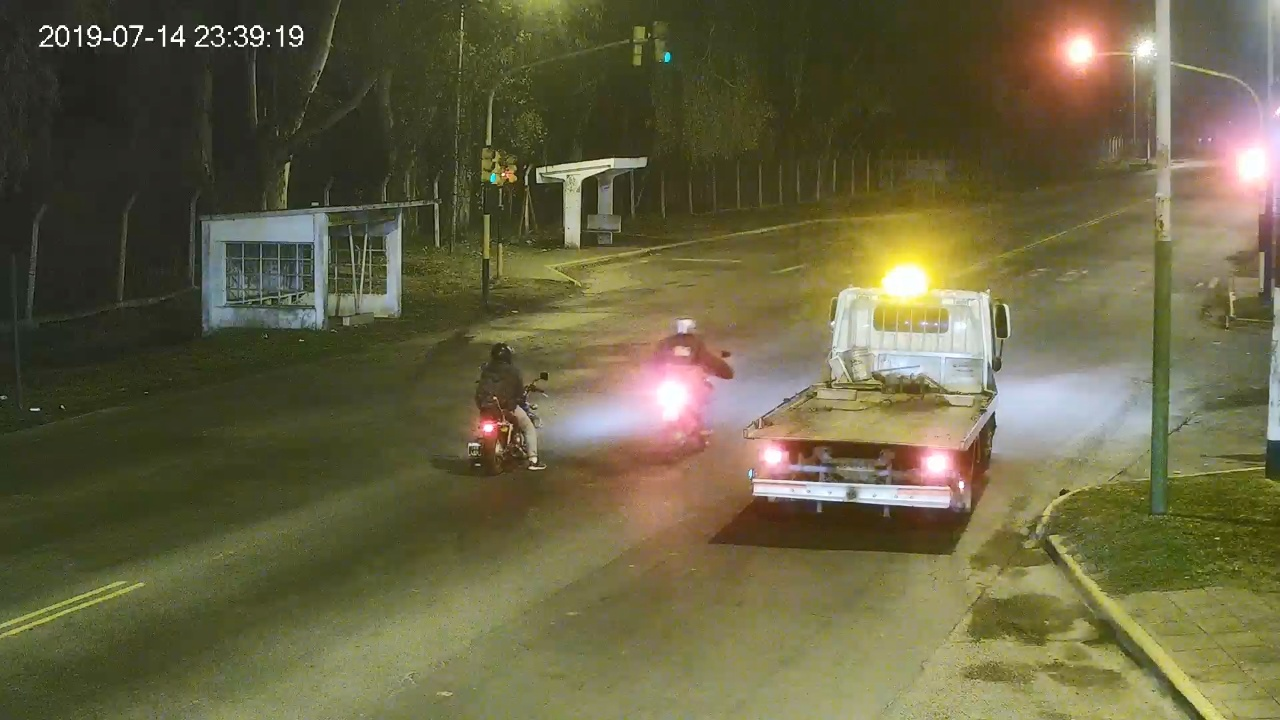motorcycle: (655, 335, 734, 459), (468, 364, 549, 475)
truck: (744, 287, 1010, 518)
